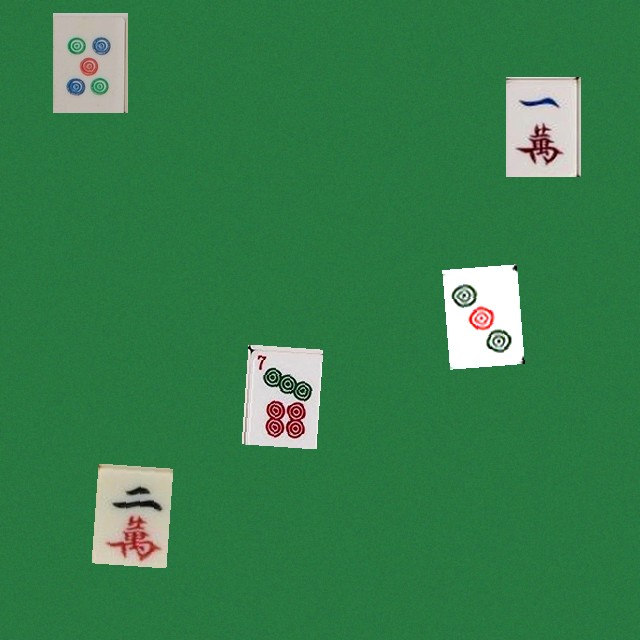tile: (505, 76, 580, 176), (52, 12, 127, 112), (91, 463, 166, 563), (241, 344, 316, 444), (442, 264, 517, 364)
